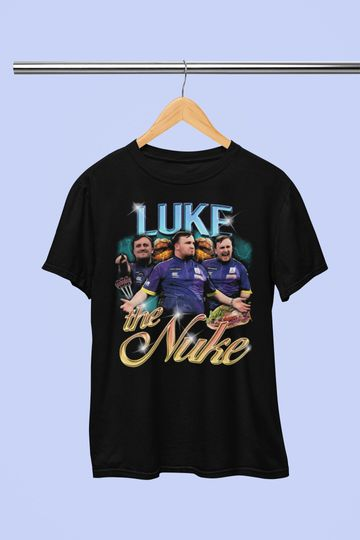design: (112, 198, 256, 369)
